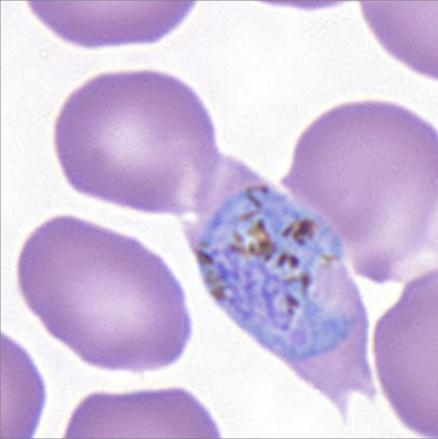Infected: (63, 19, 268, 290)
Uninfected: (0, 153, 155, 339), (241, 66, 417, 225), (220, 224, 384, 371)
